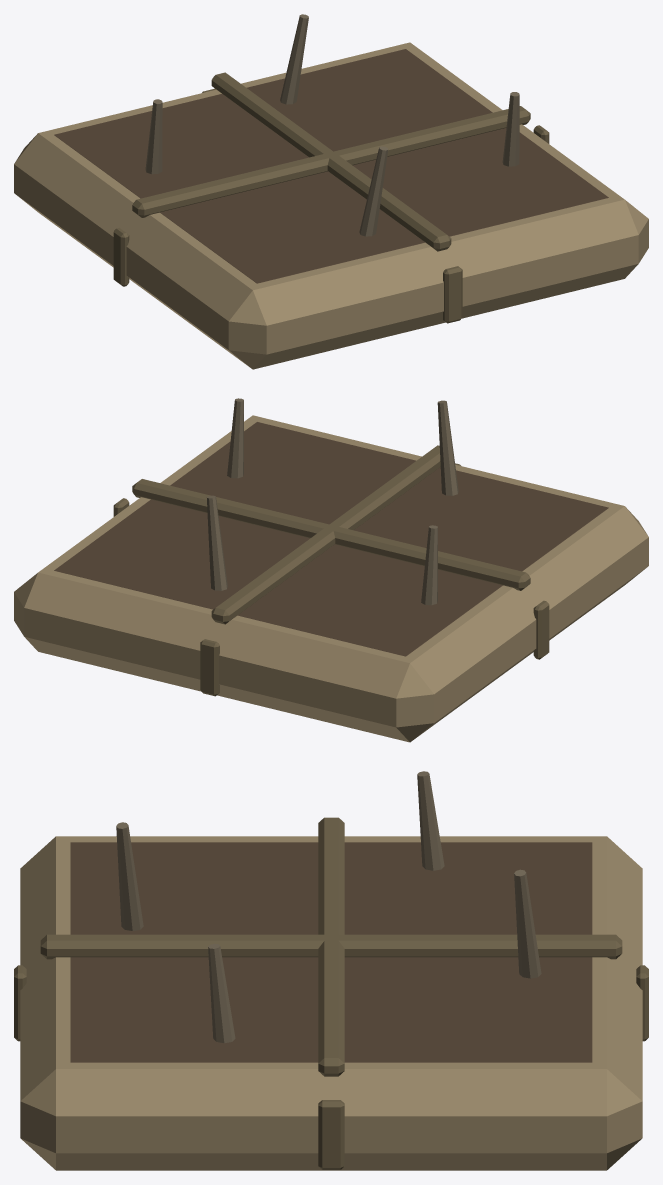
Rendered from flowers_3_packed_winter.glb.
The picture shows the model from 3 angles, top to bottom: view 1: azimuth 30°, elevation 25°; view 2: azimuth 150°, elevation 25°; view 3: azimuth 270°, elevation 25°; orthographic projection. The views are drawn at different scales.
Visible parts, largest first — view 1: flowers_3_packed_winter; view 2: flowers_3_packed_winter; view 3: flowers_3_packed_winter.
Part boxes in pixels (bbox=[...]): flowers_3_packed_winter: bbox=[14, 14, 648, 369]; flowers_3_packed_winter: bbox=[14, 398, 648, 742]; flowers_3_packed_winter: bbox=[14, 771, 648, 1170].
Size of the model in its own units: 1.25 by 0.457 by 1.25.
